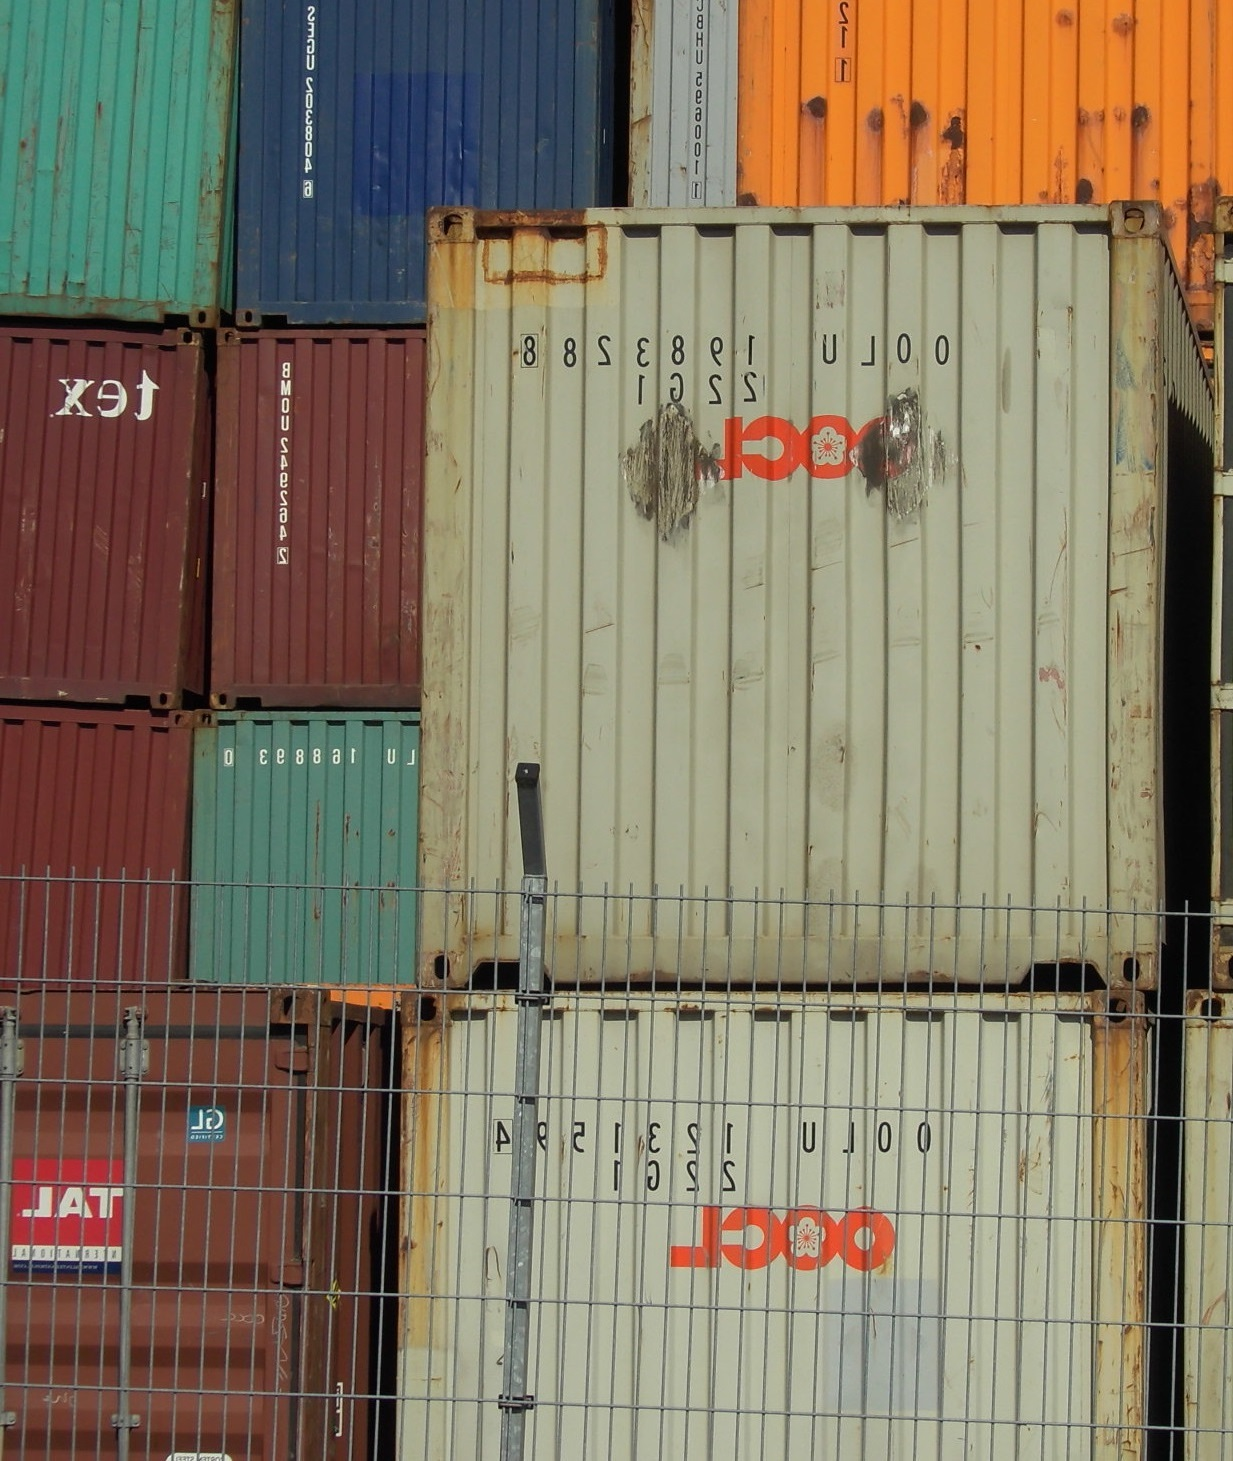container_no_door: (424, 206, 1164, 989), (407, 997, 1139, 1460), (232, 1, 597, 318), (731, 1, 1233, 214), (207, 323, 424, 704), (1, 330, 199, 708), (1, 1, 228, 323), (194, 708, 418, 987), (1, 712, 188, 994)
